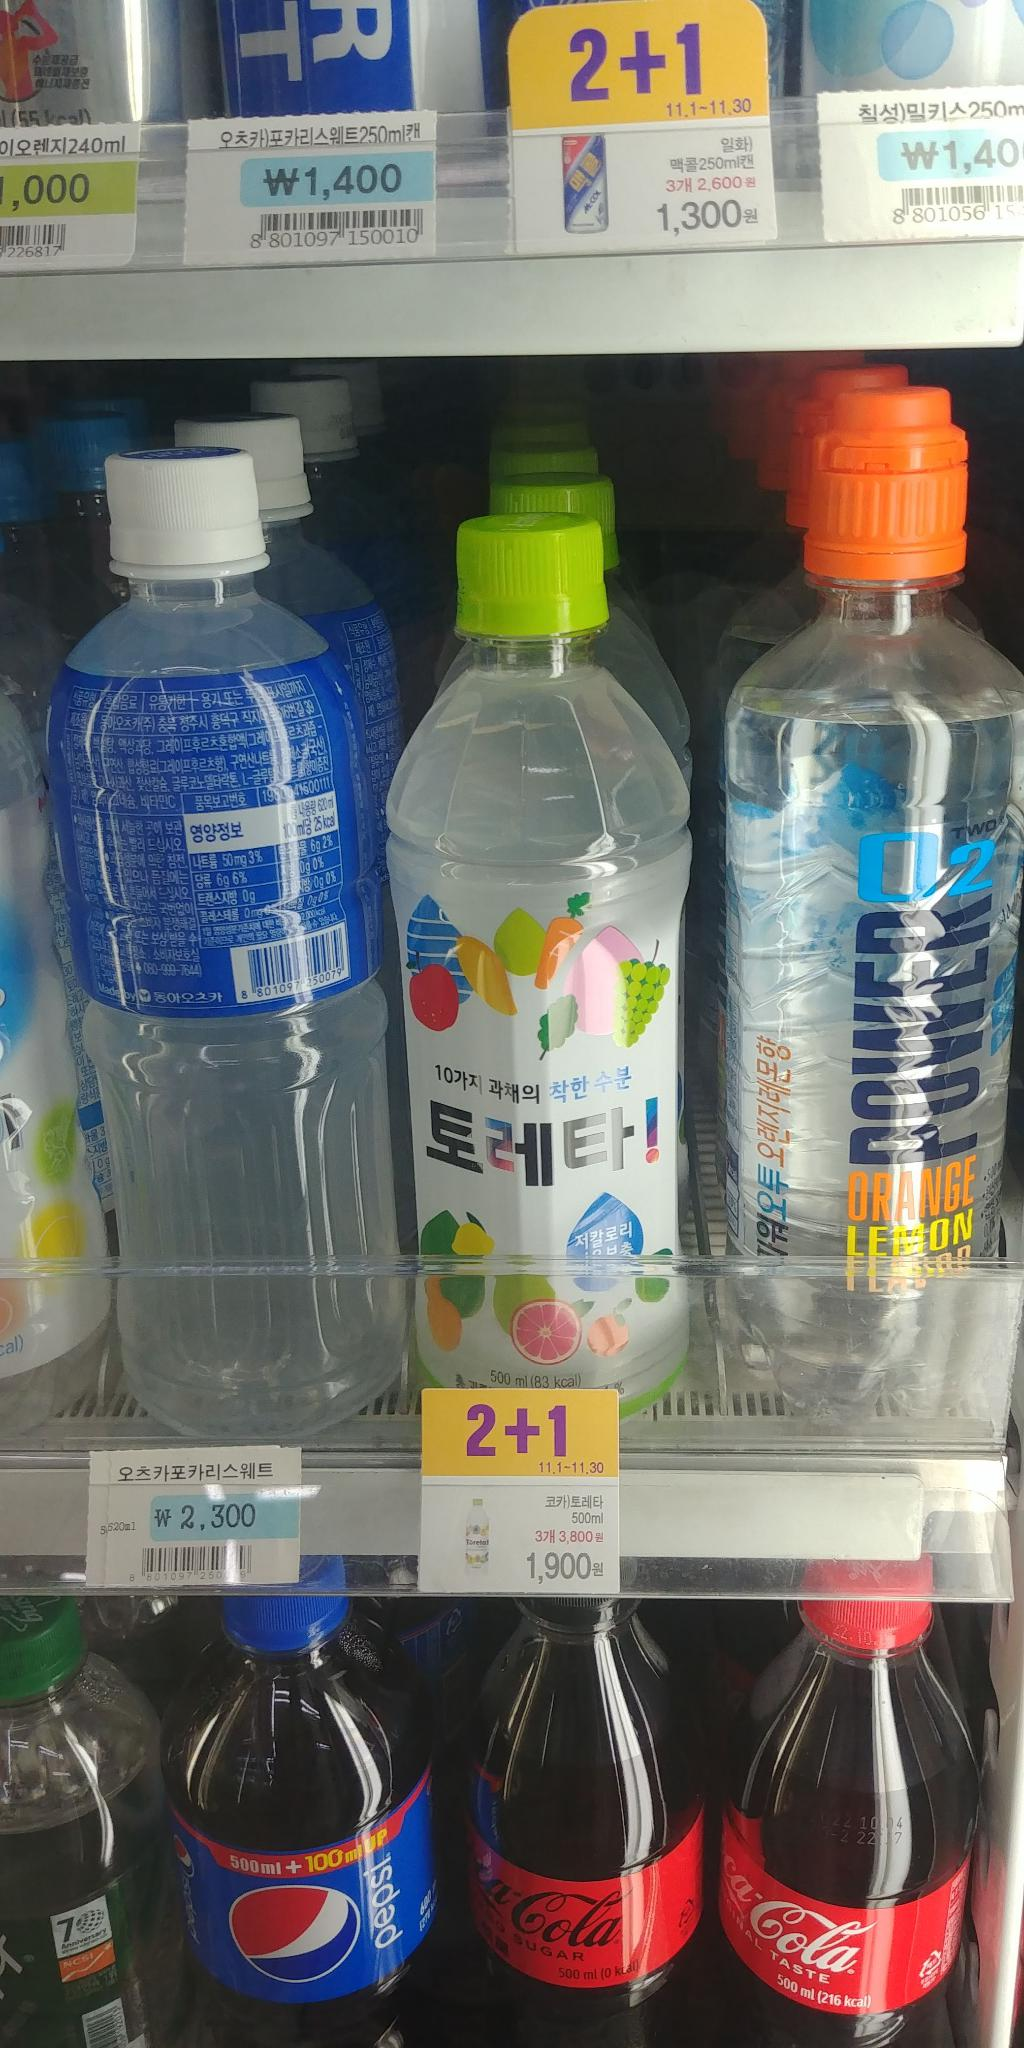pocarisweat: (57, 408, 421, 1445)
powerO2_orange: (687, 347, 1019, 1445)
toreta: (346, 508, 711, 1445)
